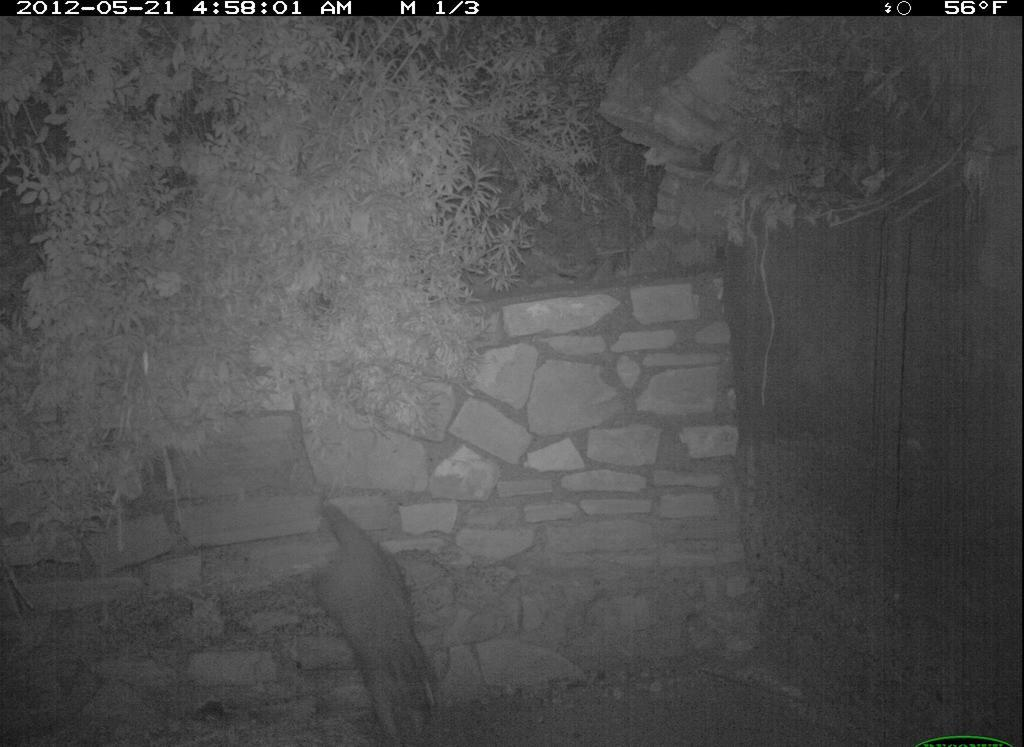raccoon: (285, 472, 454, 743)
